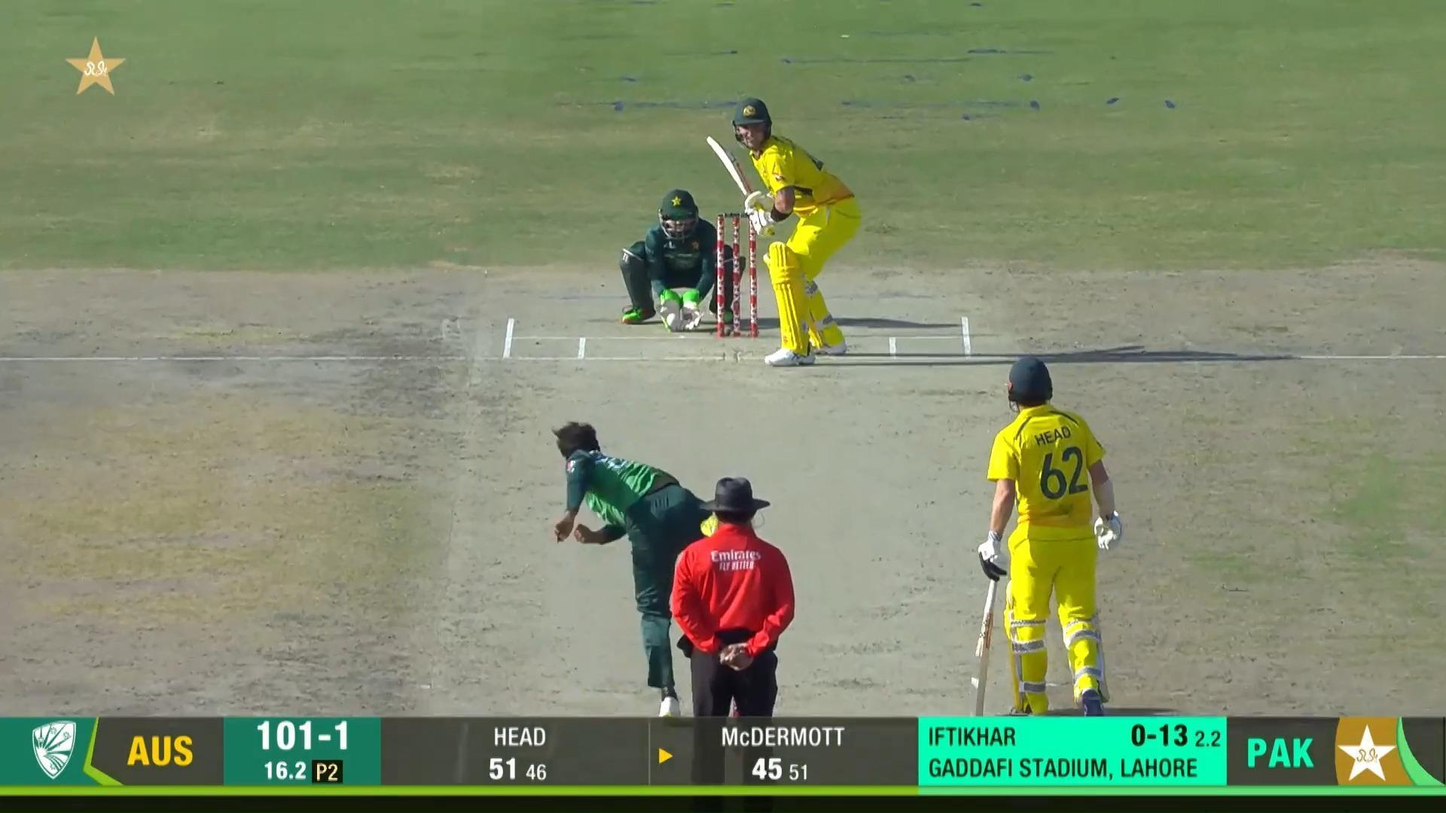BM 1: (704, 96, 862, 367)
BO: (551, 420, 715, 718)
